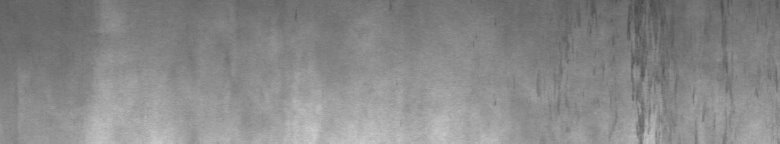ka: (537, 4, 728, 136)
